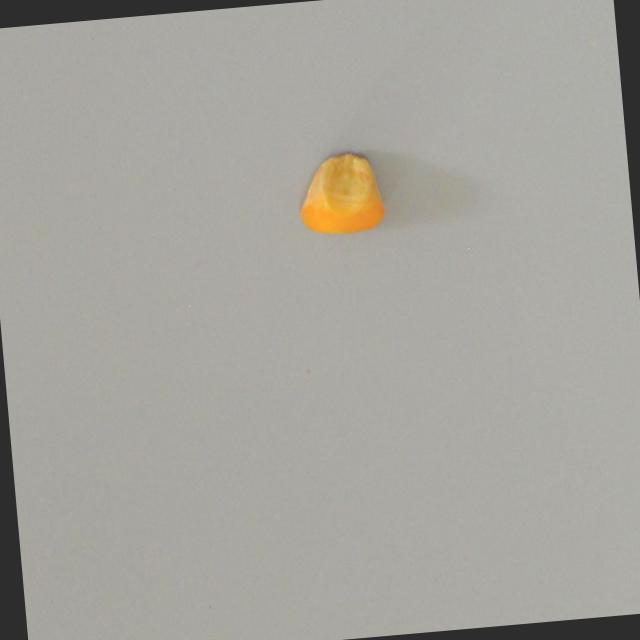entero: (288, 144, 390, 238)
